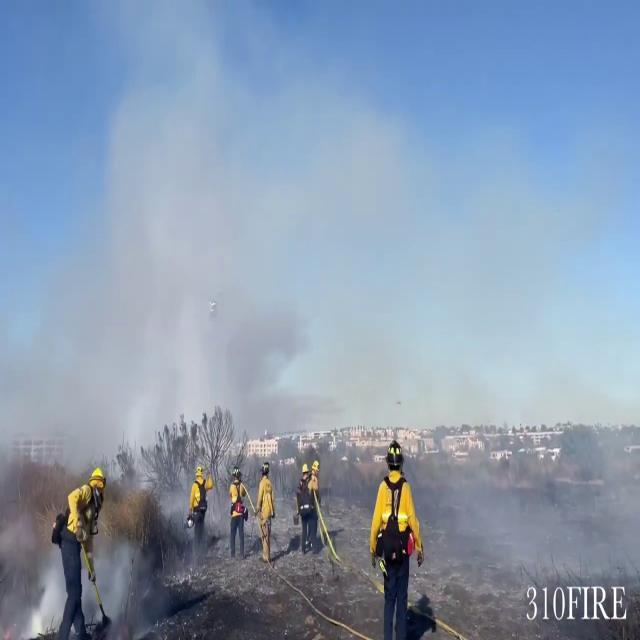Smoke: (12, 7, 608, 456)
